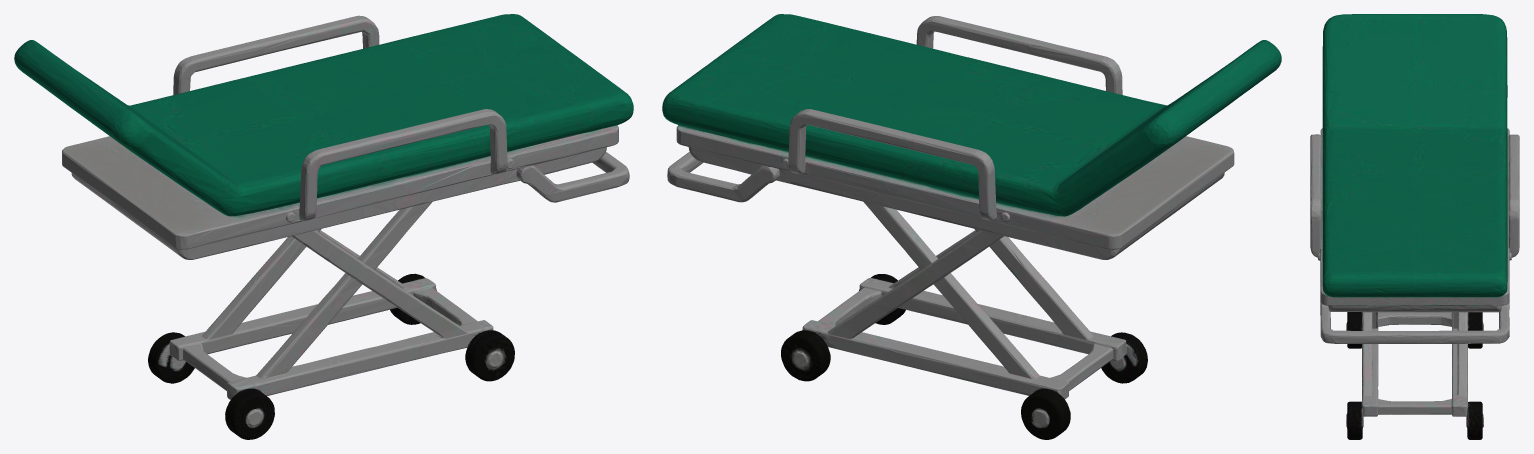
Rendered from bed1.glb.
3 renders of one model, left to right at view 1: azimuth 30°, elevation 25°; view 2: azimuth 150°, elevation 25°; view 3: azimuth 270°, elevation 25°, orthographic. The views are drawn at different scales.
Parts seen in each view (by area): view 1: tripo_node_d20620d1-1c24-4989-bff0-61f1582595e2; view 2: tripo_node_d20620d1-1c24-4989-bff0-61f1582595e2; view 3: tripo_node_d20620d1-1c24-4989-bff0-61f1582595e2.
Part boxes in pixels (left/top/right/bottom): tripo_node_d20620d1-1c24-4989-bff0-61f1582595e2: left=14, top=14, right=633, bottom=439; tripo_node_d20620d1-1c24-4989-bff0-61f1582595e2: left=662, top=14, right=1281, bottom=439; tripo_node_d20620d1-1c24-4989-bff0-61f1582595e2: left=1310, top=14, right=1519, bottom=439.
Bounding box in the file's own units: 1 × 0.6767 × 0.4539.
Materials: 1 (1 with a texture image).
